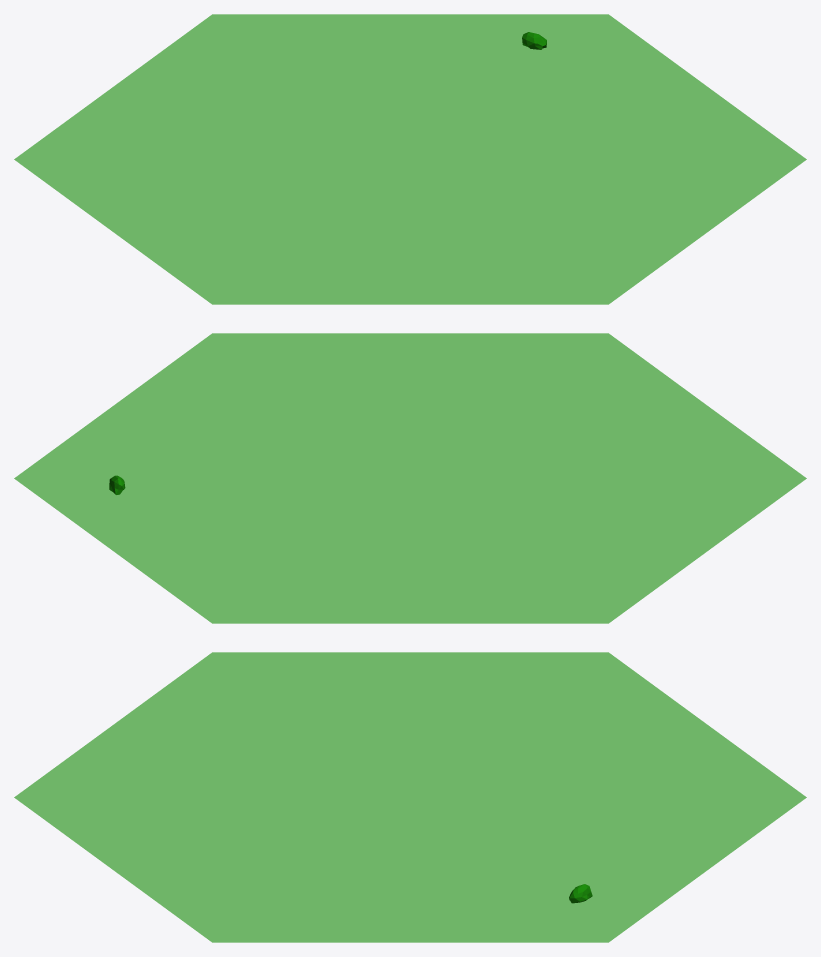
Rendered from Hexagone herbe .fbx.
3 renders of one model, top to bottom at view 1: azimuth 30°, elevation 25°; view 2: azimuth 150°, elevation 25°; view 3: azimuth 270°, elevation 25°, orthographic.
Visible parts, largest first — view 1: Cylinder; view 2: Cylinder; view 3: Cylinder.
Boxes of the visible parts, left/top/right/bottom form: Cylinder: left=14, top=14, right=806, bottom=304; Cylinder: left=14, top=333, right=806, bottom=623; Cylinder: left=14, top=652, right=806, bottom=942.
Bounding box in the file's own units: 1732 × 50.35 × 2000.
